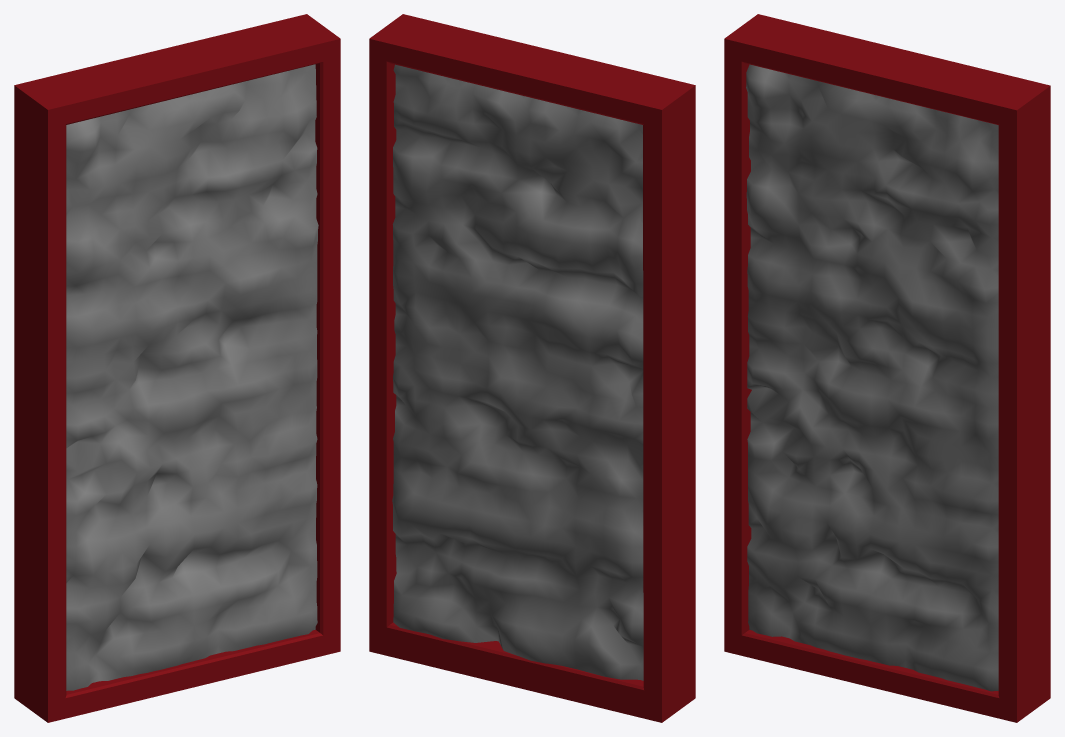
Rendered from SM_MH_01_Stone_Wall_Half_V_02.fbx.
3 renders of one model, left to right at view 1: azimuth 30°, elevation 25°; view 2: azimuth 150°, elevation 25°; view 3: azimuth 330°, elevation 25°, orthographic.
Visible parts, largest first — view 1: SM_MH_01_Stone_Wall_Half_V_02_LOD0; view 2: SM_MH_01_Stone_Wall_Half_V_02_LOD0; view 3: SM_MH_01_Stone_Wall_Half_V_02_LOD0.
Part boxes in pixels (x1,y1,x2,y2): SM_MH_01_Stone_Wall_Half_V_02_LOD0: [14, 14, 340, 722]; SM_MH_01_Stone_Wall_Half_V_02_LOD0: [369, 14, 695, 722]; SM_MH_01_Stone_Wall_Half_V_02_LOD0: [724, 14, 1050, 722].
Size of what is drawn, in the model's own units: 150 by 300 by 36.61.
